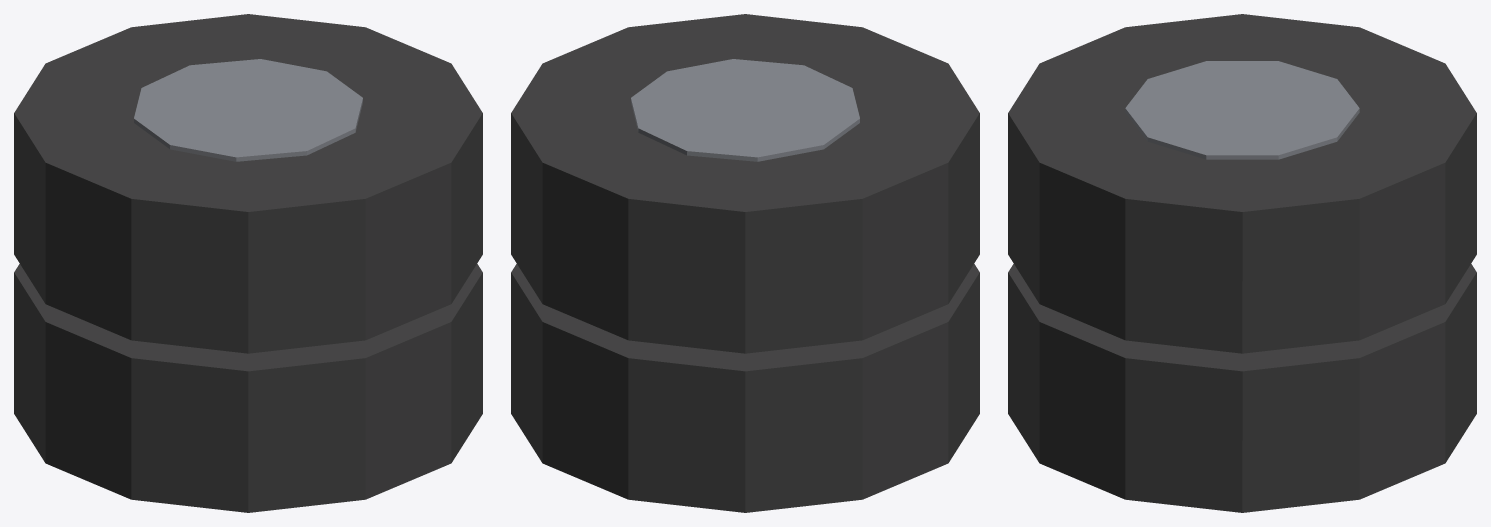
The picture shows the model from 3 angles, left to right: view 1: azimuth 30°, elevation 25°; view 2: azimuth 150°, elevation 25°; view 3: azimuth 270°, elevation 25°; orthographic projection.
Parts seen in each view (by area): view 1: Tire.001, Tire, Wheel inset.001; view 2: Tire.001, Tire, Wheel inset.001; view 3: Tire.001, Tire, Wheel inset.001.
Part boxes in pixels (x1,y1,x2,y2): Tire.001: (14, 14, 482, 353); Tire: (14, 264, 482, 512); Wheel inset.001: (134, 59, 362, 161); Tire.001: (511, 14, 979, 353); Tire: (511, 264, 979, 512); Wheel inset.001: (631, 59, 859, 161); Tire.001: (1008, 14, 1476, 353); Tire: (1008, 264, 1476, 512); Wheel inset.001: (1125, 61, 1359, 159).
Bounding box in the file's own units: 48 × 34.55 × 48.
